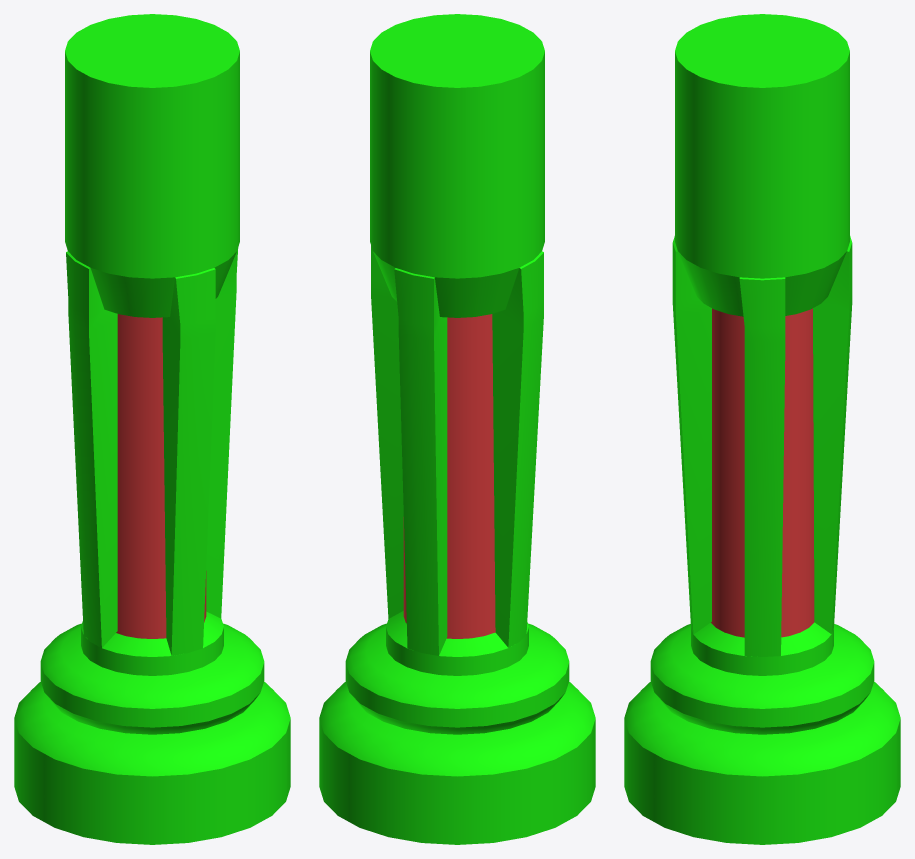
File: pillar_low.FBX
The picture shows the model from 3 angles, left to right: view 1: azimuth 30°, elevation 25°; view 2: azimuth 150°, elevation 25°; view 3: azimuth 270°, elevation 25°; orthographic projection.
Visible parts, largest first — view 1: pillar_low, theo_low; view 2: pillar_low, theo_low; view 3: pillar_low, theo_low.
Part boxes in pixels (x1,y1,x2,y2): pillar_low: (14, 14, 290, 844); theo_low: (66, 248, 238, 655); pillar_low: (319, 14, 595, 844); theo_low: (371, 246, 543, 655); pillar_low: (624, 14, 900, 844); theo_low: (672, 236, 852, 656).
Bounding box in the file's own units: 120 × 120 × 352.
